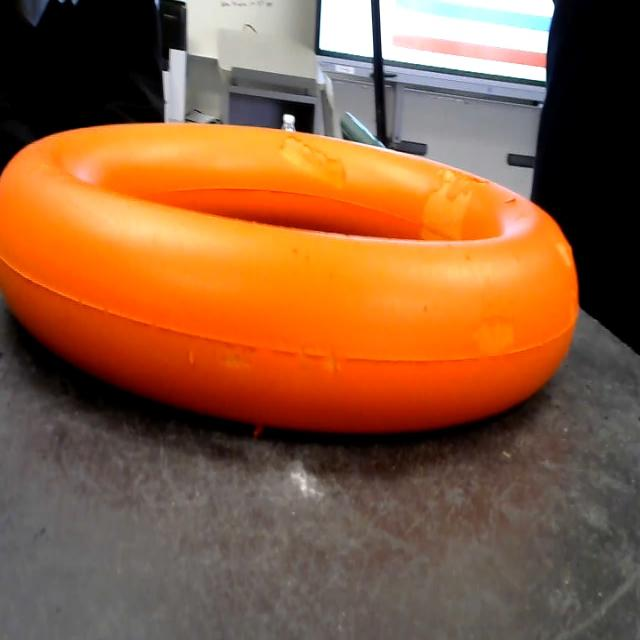note: (0, 97, 592, 443)
